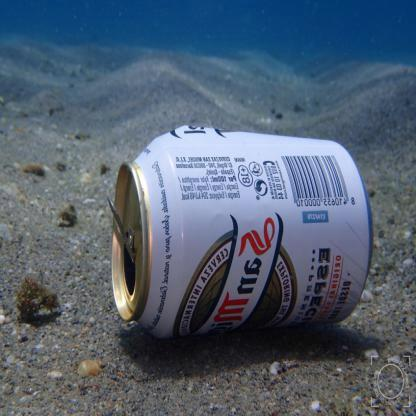Metal: (108, 122, 379, 343)
